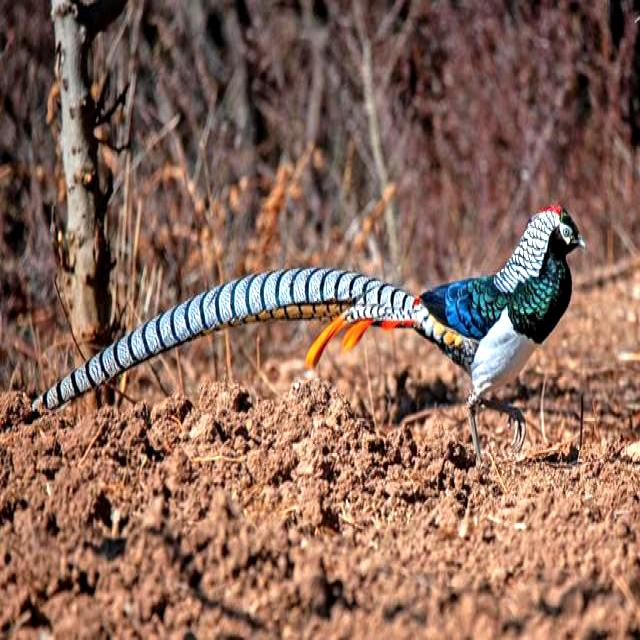Chrysolophus amherstiae: (34, 268, 412, 407)
